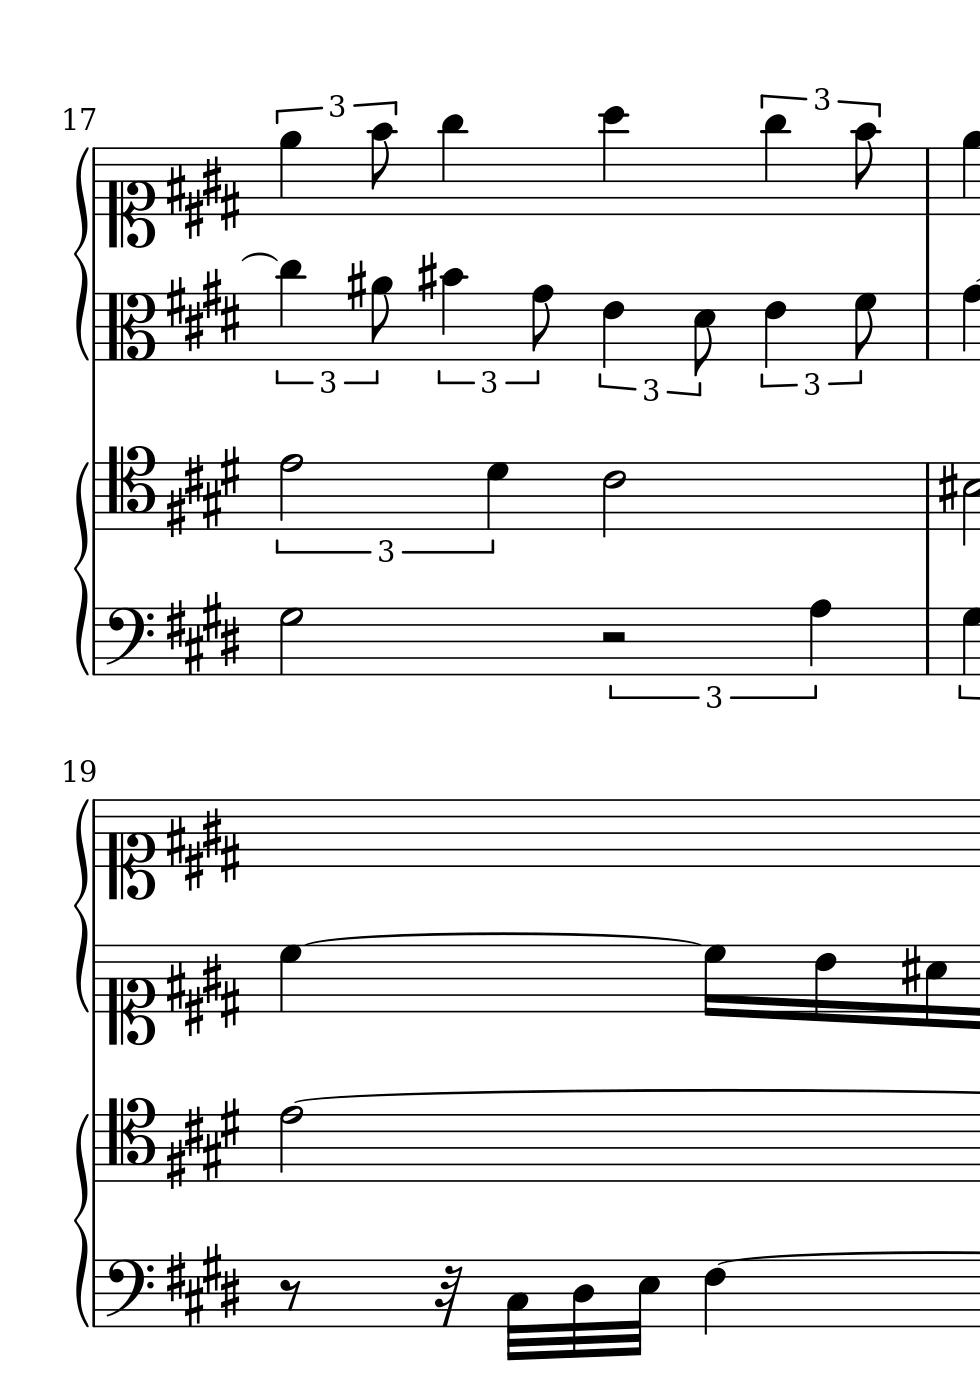1: (62, 106, 76, 135), (62, 758, 76, 785)
16_5: (923, 943, 948, 1028)
16_6: (812, 942, 837, 1024)
16_7: (701, 942, 727, 1019)
2_5: (961, 461, 979, 546)
2_6: (601, 462, 625, 537)
2_7: (277, 606, 303, 676)
2_8: (277, 1103, 302, 1185), (277, 452, 302, 531)
3: (703, 683, 727, 710), (811, 85, 832, 115), (327, 90, 346, 121), (317, 368, 338, 396), (477, 369, 500, 394), (377, 539, 398, 565), (801, 370, 822, 397), (642, 378, 660, 406)
32_3: (504, 1258, 529, 1362)
32_4: (568, 1258, 596, 1358)
32_5: (629, 1259, 661, 1357)
4_10: (439, 266, 465, 362)
4_6: (702, 1258, 727, 1338), (763, 291, 786, 368), (601, 291, 624, 368)
4_7: (276, 943, 303, 1015), (484, 461, 510, 531), (959, 606, 979, 676)
4_8: (807, 598, 832, 677), (957, 283, 979, 363)
4_9: (278, 129, 301, 215), (960, 130, 979, 218)
7: (78, 105, 97, 134)
8_10: (852, 121, 879, 218), (368, 121, 396, 217)
8_11: (762, 111, 790, 218), (276, 255, 304, 359), (438, 110, 466, 218)
8_12: (598, 103, 627, 217)
8_5: (692, 291, 716, 378)
8_7: (852, 291, 878, 361)
8_8: (529, 282, 554, 362)
8_9: (369, 275, 393, 362)
9: (78, 757, 97, 785)
Brace: (72, 795, 93, 1014), (72, 142, 91, 362), (74, 1111, 91, 1324), (73, 460, 89, 676)
Cclef: (105, 291, 154, 362)
E_S: (161, 1098, 242, 1189), (163, 446, 244, 537), (164, 953, 242, 1043), (163, 590, 243, 674), (165, 158, 242, 242), (167, 1243, 240, 1329), (163, 807, 241, 888), (163, 270, 241, 350)
Fclef: (103, 606, 153, 677), (103, 1258, 153, 1329)
Rests2: (599, 630, 628, 645)
Rests32: (432, 1263, 463, 1331)
Rests8: (278, 1277, 302, 1312)
Sharp: (345, 258, 367, 312), (898, 944, 921, 997), (935, 461, 957, 515), (416, 251, 437, 303)
Single_barline: (918, 292, 937, 359), (918, 607, 937, 674), (918, 147, 937, 214), (918, 463, 935, 530), (89, 944, 104, 1015), (88, 462, 103, 531), (89, 292, 103, 362), (88, 1115, 102, 1185), (88, 800, 102, 869), (88, 150, 102, 215), (89, 608, 102, 676), (89, 1260, 102, 1328)
Slur: (307, 929, 701, 945), (240, 252, 279, 263)
Soprano_Cclef: (106, 941, 153, 1046), (106, 147, 152, 250), (106, 796, 152, 899)
Tensor_Cclef: (106, 444, 154, 529), (106, 1096, 154, 1181)
